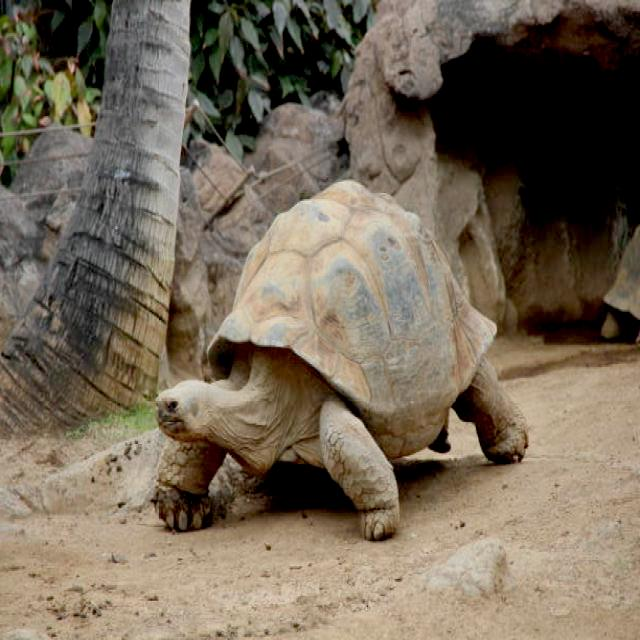tortoise: (151, 177, 535, 536)
